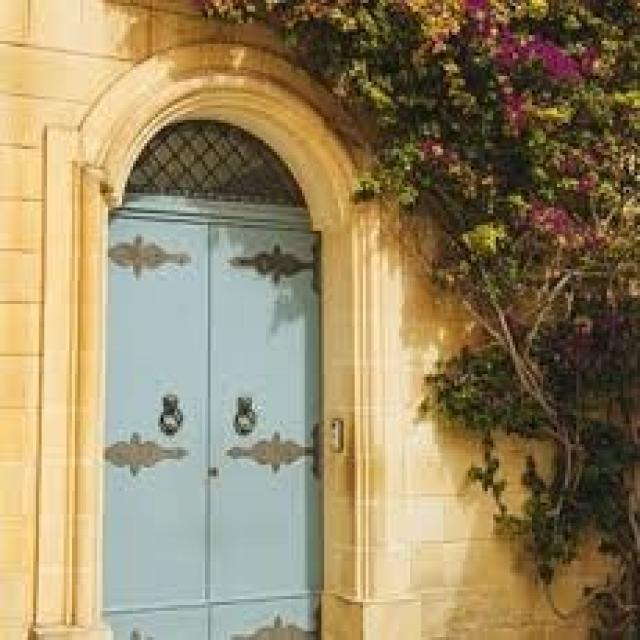door: (101, 203, 323, 639)
